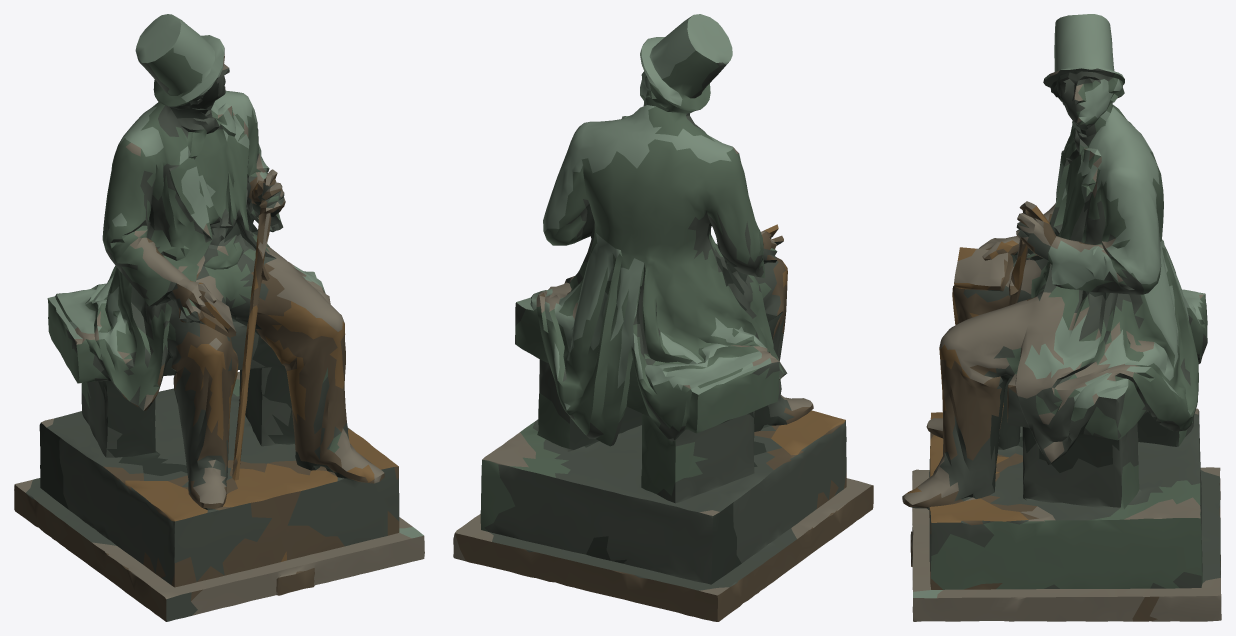
The model's file is hc-andersen.glb.
3 views of the same model, side by side, from view 1: azimuth 30°, elevation 25°; view 2: azimuth 150°, elevation 25°; view 3: azimuth 270°, elevation 25° (orthographic). The views are drawn at different scales.
Visible parts, largest first — view 1: hca_statue; view 2: hca_statue; view 3: hca_statue.
Boxes of the visible parts, x1,y1,x2,y2 form: hca_statue: [14, 14, 424, 621]; hca_statue: [453, 14, 873, 621]; hca_statue: [902, 14, 1221, 621].
Bounding box in the file's own units: 1.35 × 2.6 × 1.43.
